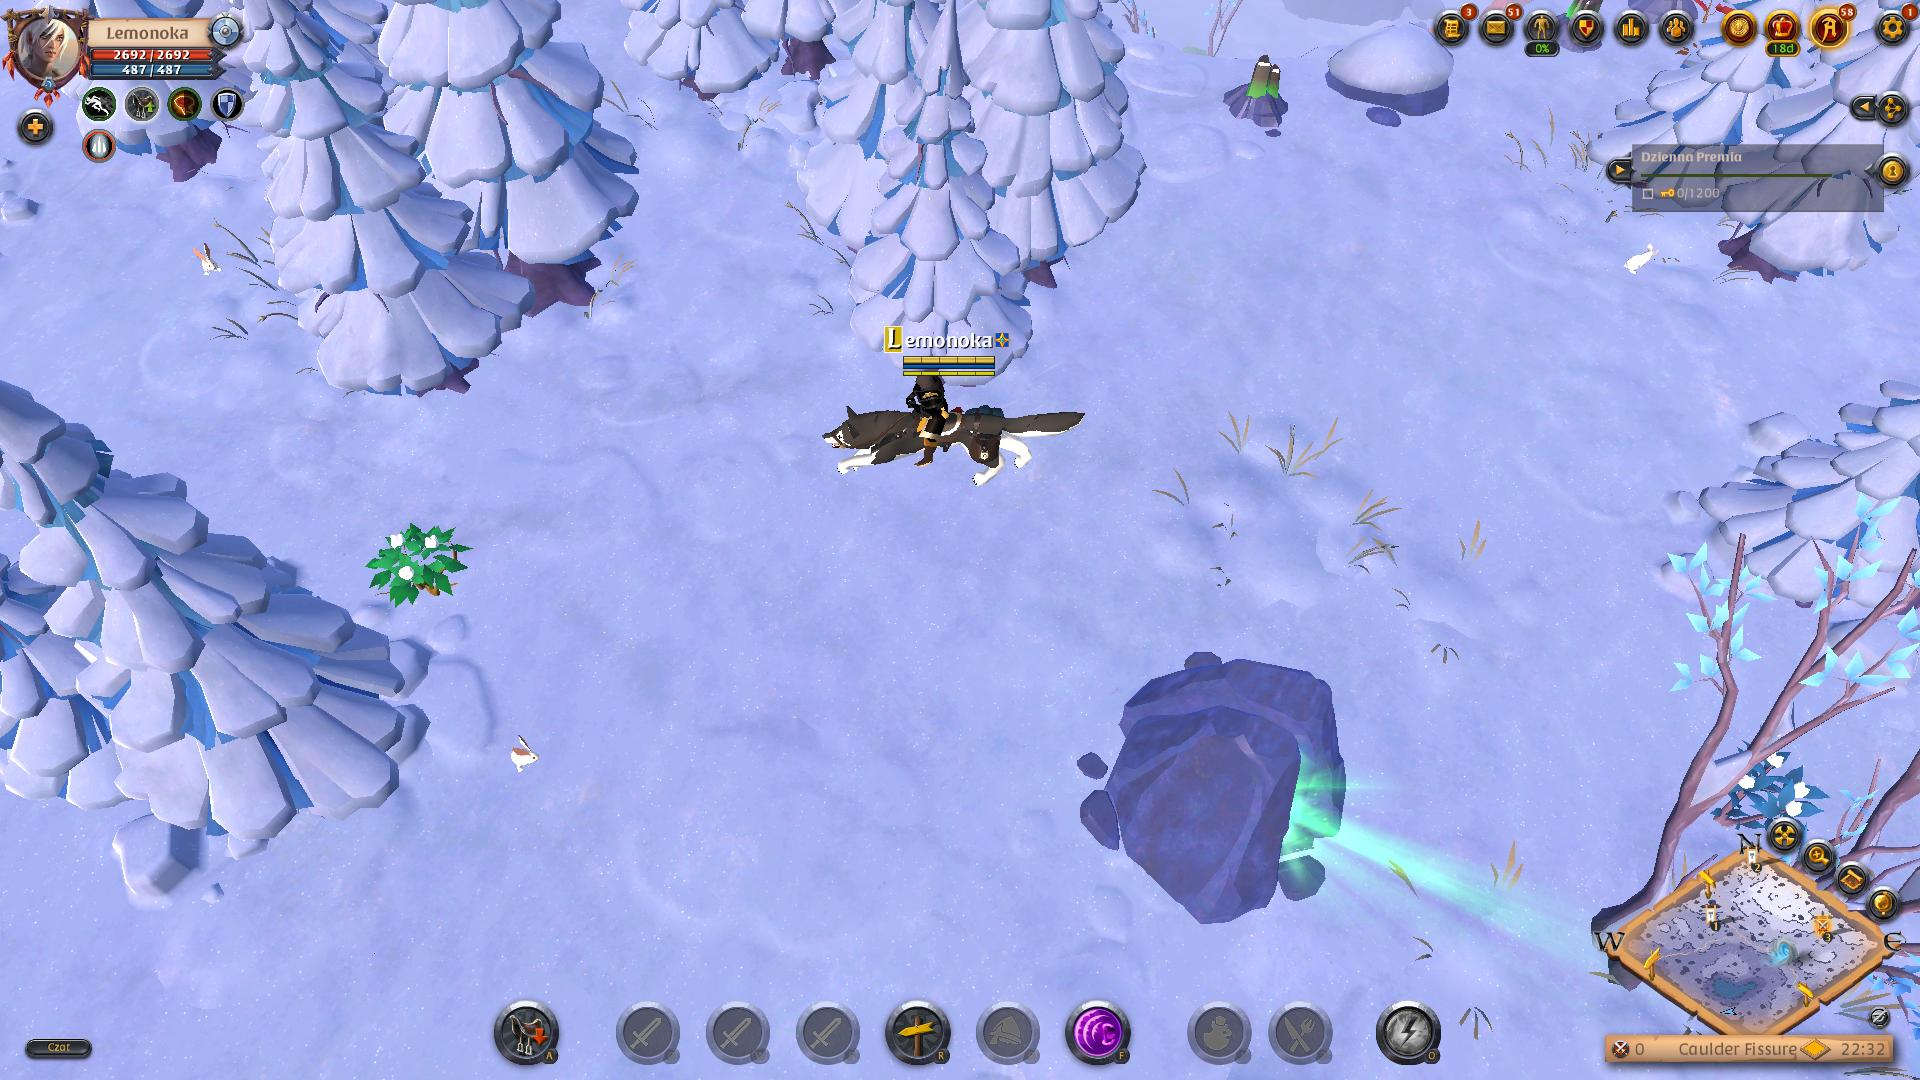fiber tier 3: (365, 516, 475, 612)
ore tier 3: (1226, 49, 1295, 138)
